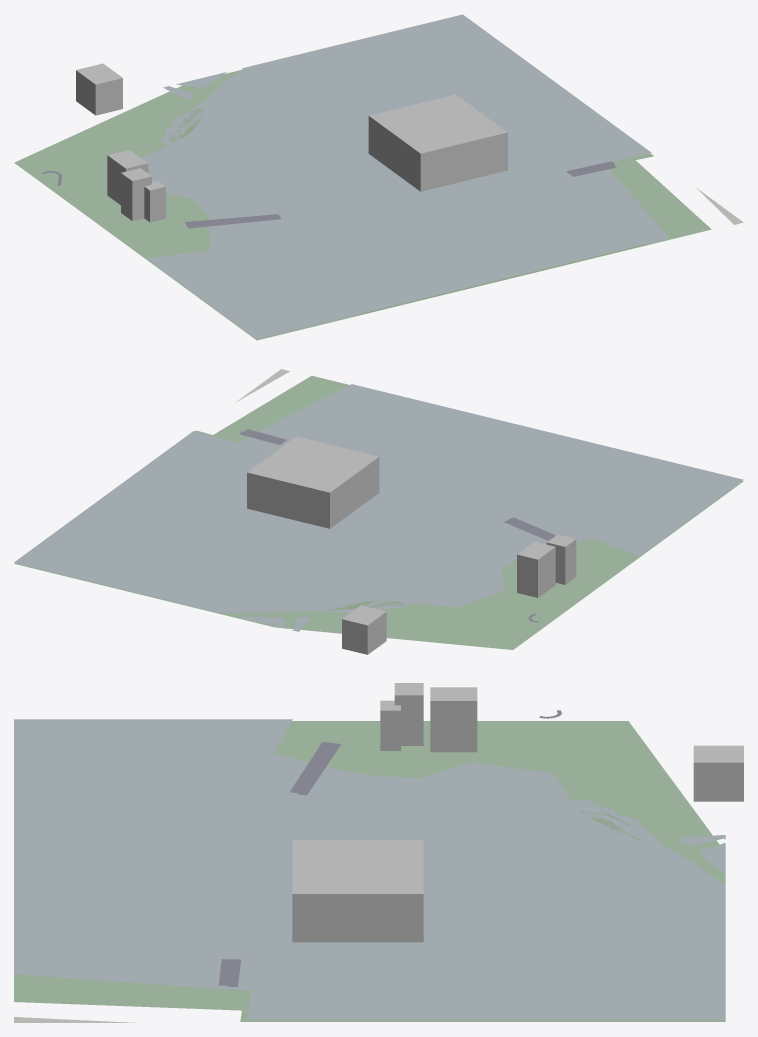
Rendered from 136_114_mid.glb.
3 renders of one model, top to bottom at view 1: azimuth 30°, elevation 25°; view 2: azimuth 150°, elevation 25°; view 3: azimuth 270°, elevation 25°, orthographic. The views are drawn at different scales.
Size of the model in its own units: 500 by 43.18 by 513.
